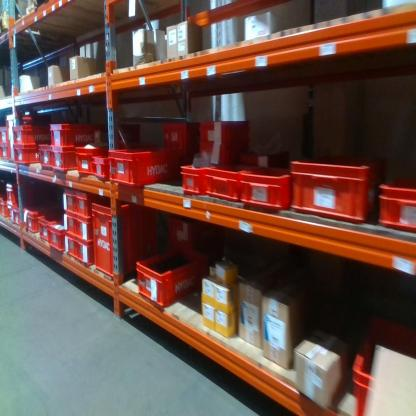pallet: (1, 11, 14, 35)
small_load_carrier: (350, 307, 415, 415), (289, 156, 383, 220), (89, 199, 159, 275), (135, 245, 200, 310), (108, 141, 179, 188), (242, 162, 296, 210), (379, 173, 415, 237), (206, 157, 256, 202), (163, 116, 198, 178), (8, 113, 50, 160), (49, 123, 106, 146), (195, 120, 250, 143), (177, 156, 206, 196), (166, 215, 202, 247), (198, 143, 250, 163), (74, 144, 102, 181), (11, 124, 49, 145), (44, 220, 66, 255), (12, 145, 39, 170), (50, 146, 77, 171), (4, 184, 34, 204), (77, 214, 96, 241), (92, 153, 111, 180), (77, 241, 94, 270), (24, 207, 43, 232), (76, 190, 94, 215), (61, 185, 75, 214), (37, 216, 51, 245), (37, 142, 50, 168), (63, 235, 76, 258), (11, 203, 25, 222), (63, 214, 75, 235), (0, 195, 10, 218), (1, 122, 7, 145), (1, 143, 8, 159)
